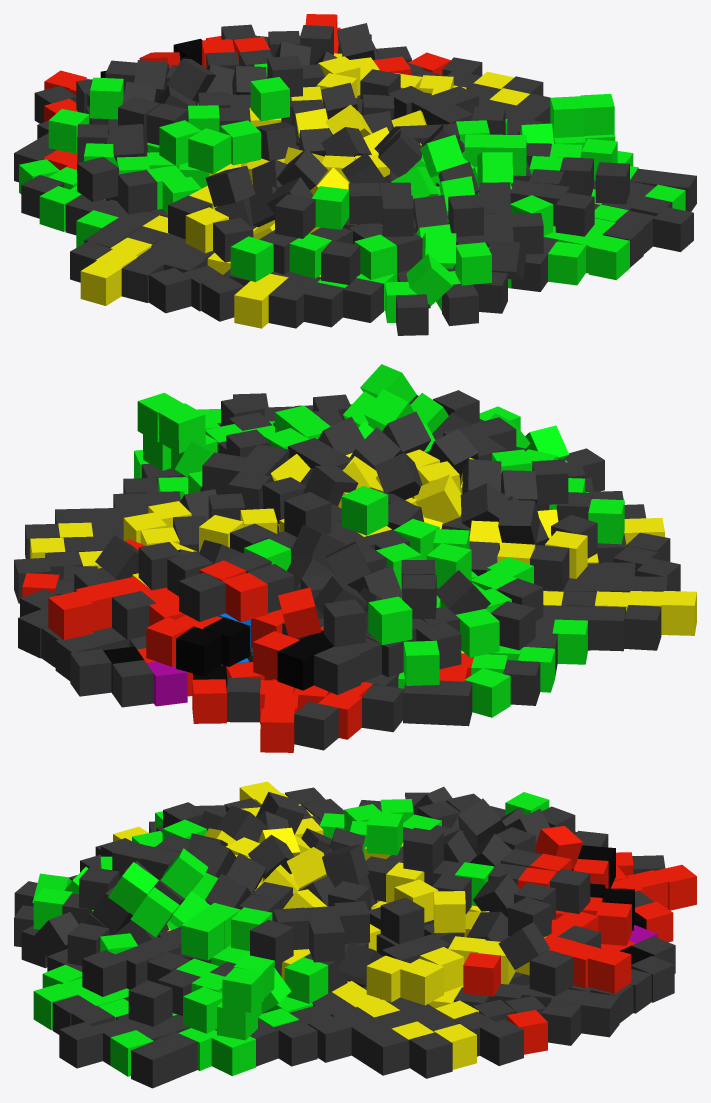
The model's file is BiggsGamesAnimation.fbx.
The picture shows the model from 3 angles, top to bottom: view 1: azimuth 30°, elevation 25°; view 2: azimuth 150°, elevation 25°; view 3: azimuth 270°, elevation 25°; orthographic projection. The views are drawn at different scales.
Visible parts, largest first — view 1: Cube.008, Cube.387, Cube.136, Cube.516, Cube.207, Cube.232, Cube.049, Cube.245, Cube.187, Cube.184, Cube.242, Cube.063 (+116 smaller); view 2: Cube.063, Cube.229, Cube.168, Cube.222, Cube.178, Cube.155, Cube.225, Cube.215, Cube.234, Cube.220, Cube.223, Cube.173 (+117 smaller); view 3: Cube.477, Cube.248, Cube.386, Cube.242, Cube.126, Cube.246, Cube.222, Cube.245, Cube.501, Cube.147, Cube.378, Cube.478 (+125 smaller).
Boxes of the visible parts, x1,y1,x2,y2 form: Cube.008: (230,236,273,282); Cube.387: (149,267,191,313); Cube.136: (188,128,230,173); Cube.516: (80,260,122,305); Cube.207: (588,235,629,280); Cube.232: (77,156,118,202); Cube.049: (275,194,315,238); Cube.245: (653,207,693,251); Cube.187: (343,278,383,322); Cube.184: (118,170,157,214); Cube.242: (555,192,594,236); Cube.063: (250,77,289,121); Cube.063: (341,486,388,535); Cube.229: (179,572,225,621); Cube.168: (314,646,360,694); Cube.222: (48,591,93,639); Cube.178: (176,627,221,676); Cube.155: (158,403,205,453); Cube.225: (294,701,338,750); Cube.215: (368,596,412,644); Cube.234: (323,599,365,646); Cube.220: (222,573,267,622); Cube.223: (112,660,153,707); Cube.173: (70,649,111,696); Cube.477: (365,1029,409,1075); Cube.248: (128,980,172,1026); Cube.386: (380,897,424,944); Cube.242: (82,950,126,996); Cube.126: (529,950,573,996); Cube.246: (131,1041,175,1088); Cube.222: (588,947,631,993); Cube.245: (59,1022,102,1068); Cube.501: (480,1019,523,1065); Cube.147: (181,914,224,960); Cube.378: (400,958,443,1005); Cube.478: (409,1032,452,1078).
Size of what is drawn, in the model's own units: 4211 by 830 by 4362.
